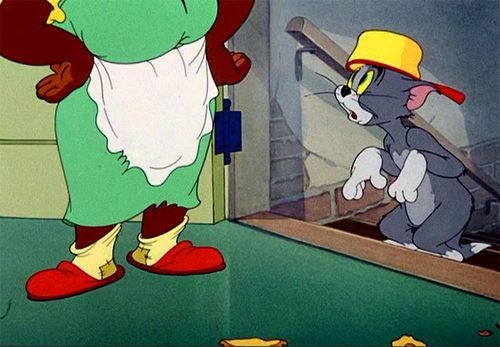tom: (334, 52, 491, 267)
